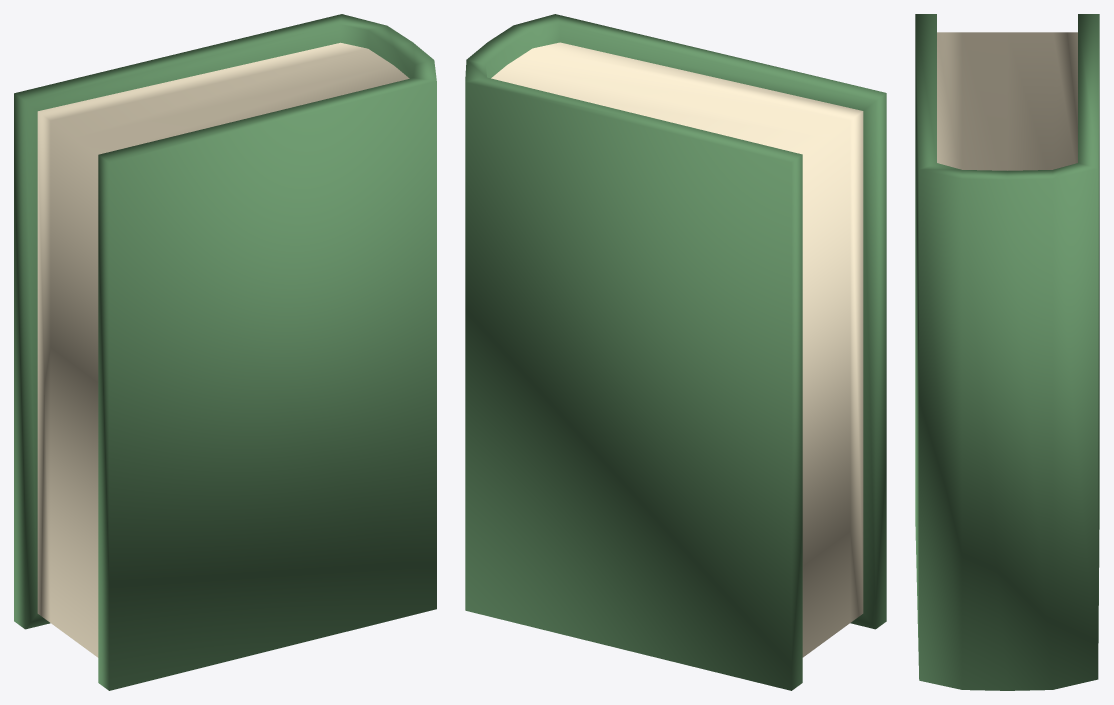
The model's file is SM_Book01.fbx.
3 views of the same model, side by side, from view 1: azimuth 30°, elevation 25°; view 2: azimuth 150°, elevation 25°; view 3: azimuth 270°, elevation 25° (orthographic). The views are drawn at different scales.
Visible parts, largest first — view 1: Book01; view 2: Book01; view 3: Book01.
Boxes of the visible parts, x1=… form: Book01: x1=14, y1=14, x2=436, y2=690; Book01: x1=465, y1=14, x2=886, y2=690; Book01: x1=915, y1=14, x2=1099, y2=690.
Bounding box in the file's own units: 34.81 × 50 × 16.32.
